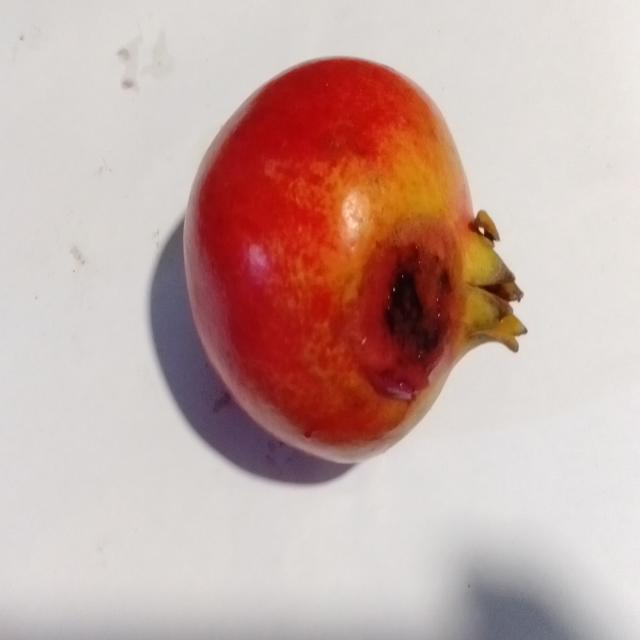Rotten: (178, 51, 532, 470)
